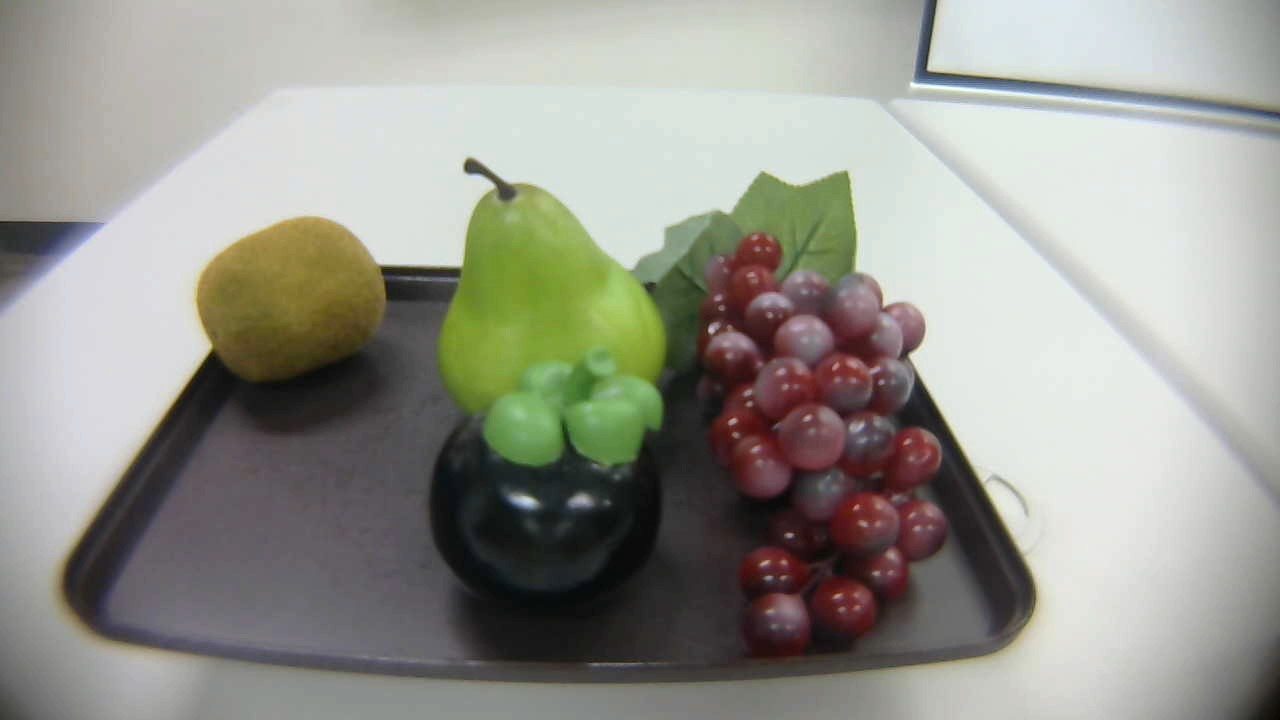grape: (630, 158, 950, 653)
green pear: (430, 158, 670, 438)
kiwi fruit: (185, 211, 402, 386)
mangosteen: (417, 352, 674, 597)
